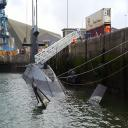submarine: (20, 58, 110, 108), (38, 85, 40, 89)
